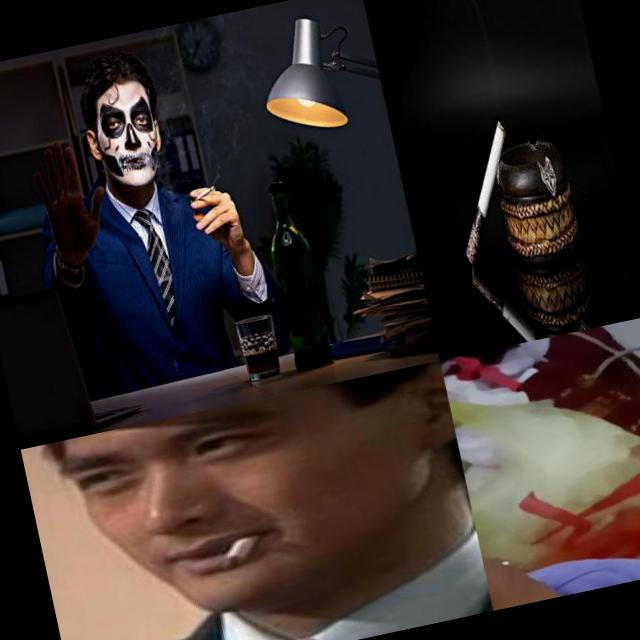smoke: (438, 113, 532, 268), (464, 256, 548, 350), (203, 526, 276, 574), (187, 184, 218, 205)
